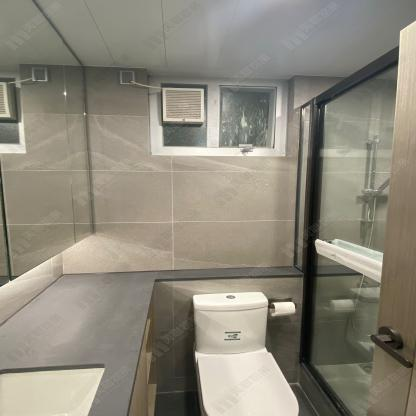Exhaust Fan: (160, 86, 205, 125)
Toilet: (192, 290, 301, 416)
Toilet Sink: (0, 364, 107, 416)
Water Cubicle: (294, 44, 397, 416)
